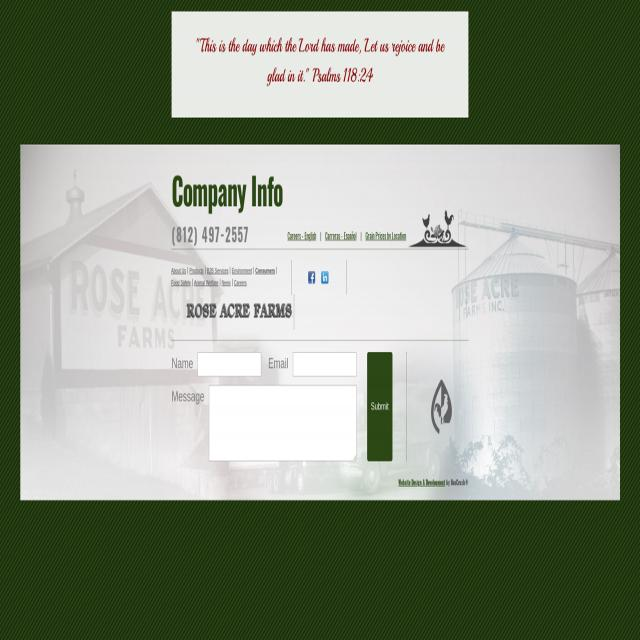button: (180, 296, 294, 330), (367, 352, 393, 461), (432, 380, 452, 435), (308, 271, 315, 283), (322, 271, 328, 283)
field: (209, 386, 357, 462), (293, 352, 357, 377), (198, 352, 261, 377)
